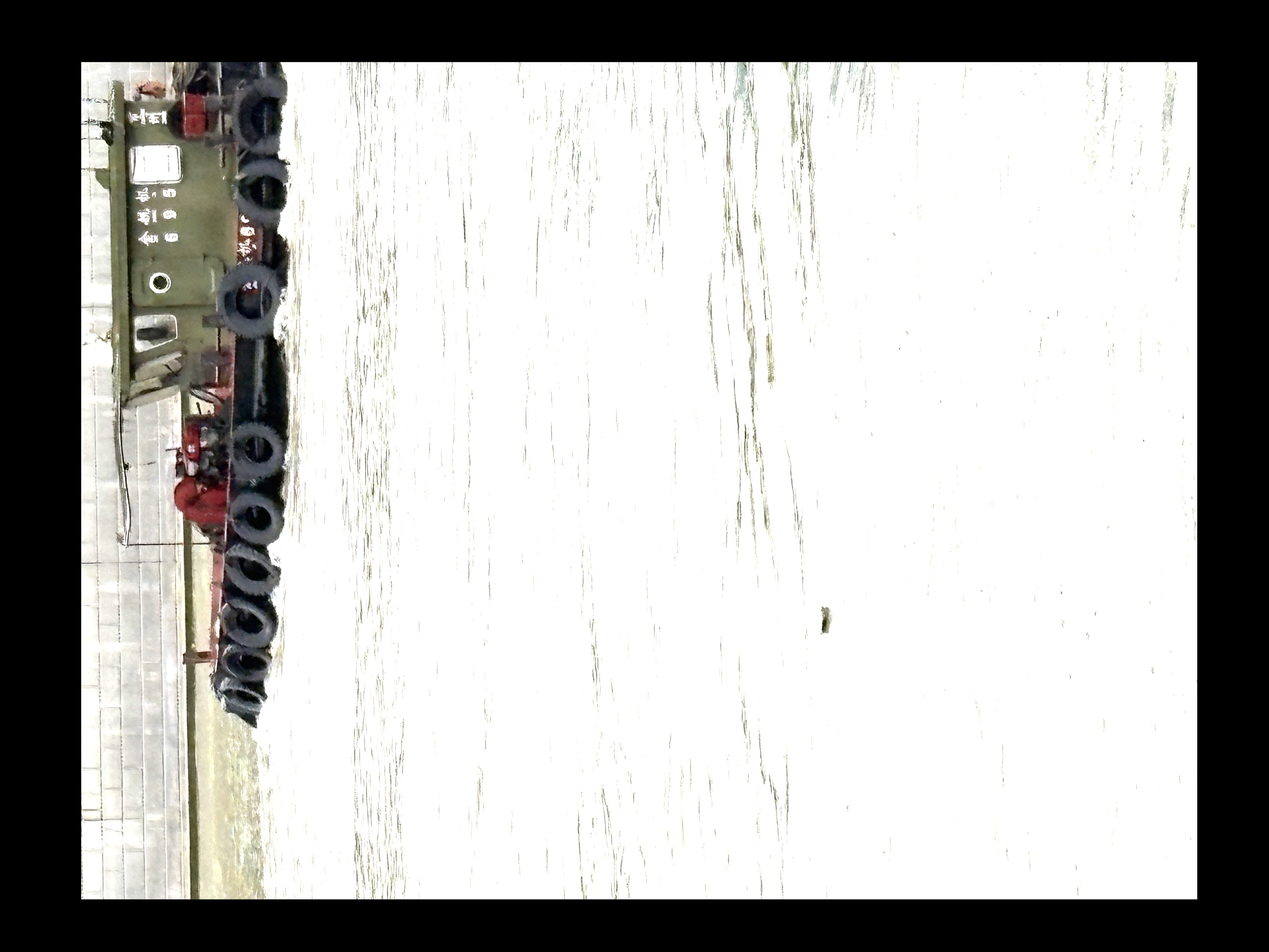Plastic wastes: (781, 311, 797, 369), (841, 589, 858, 617)
